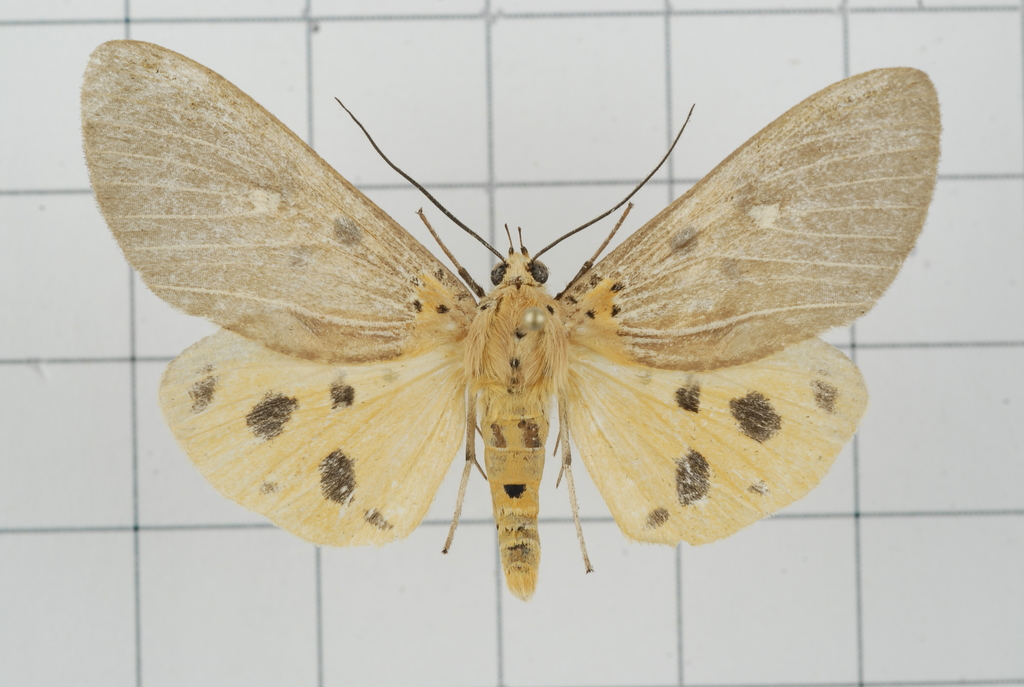Butterfly: (71, 4, 963, 625)
